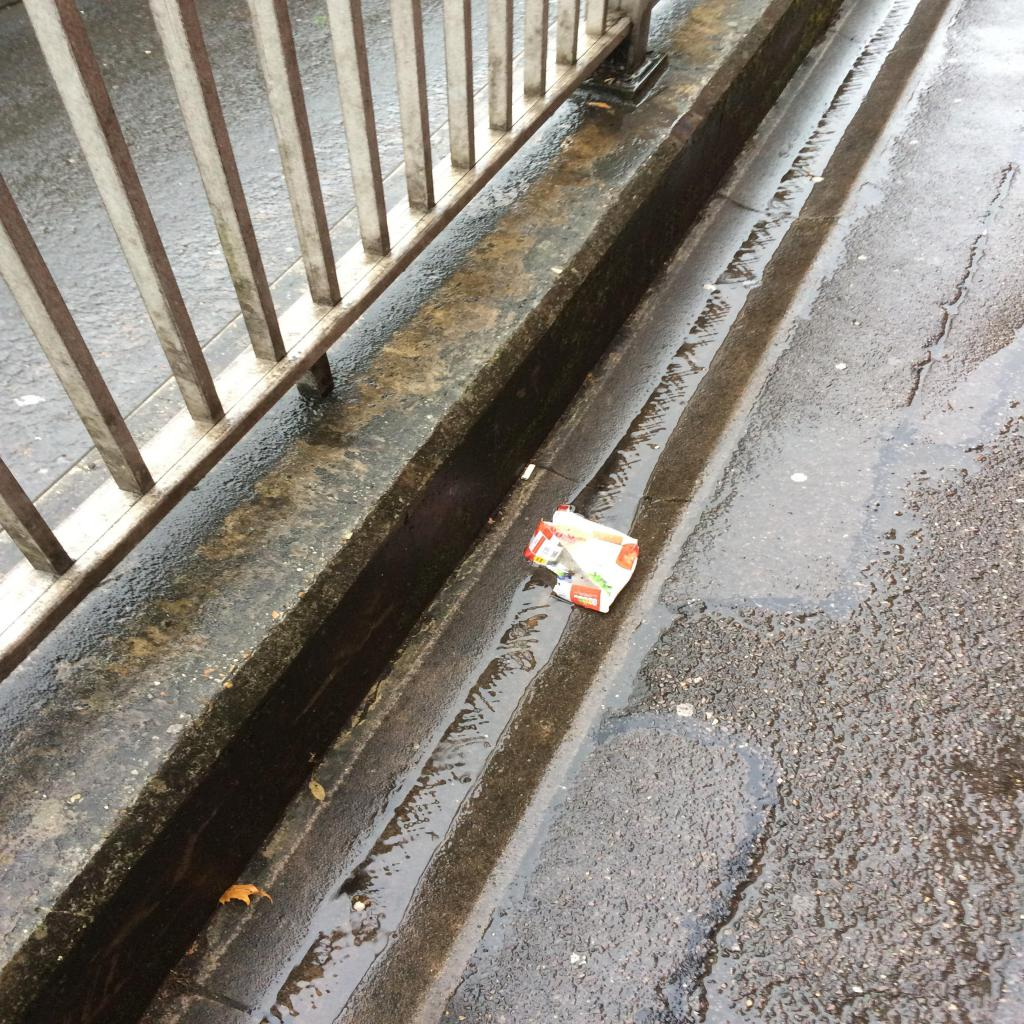Cigarette: (520, 466, 536, 480)
Meal carton: (523, 504, 639, 612)
